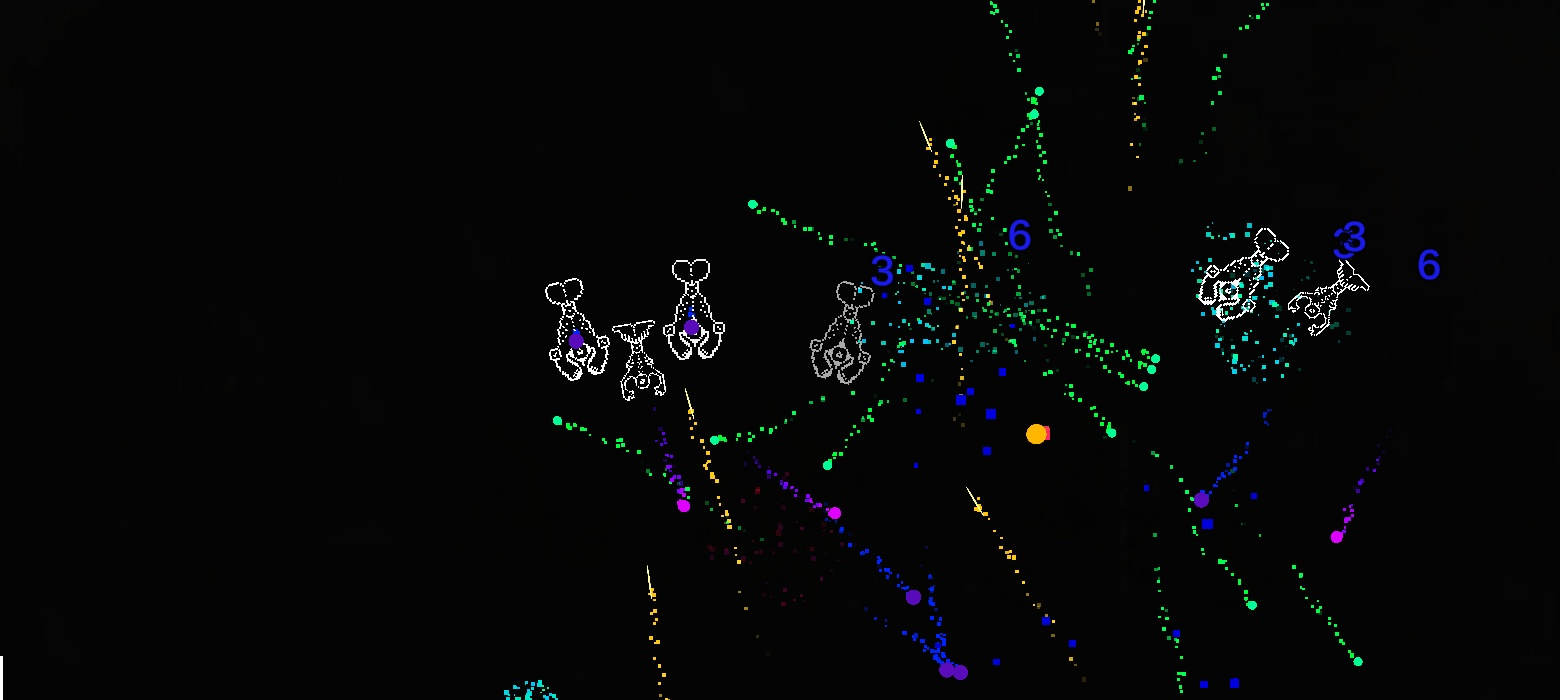enemy: (1198, 228, 1289, 322), (809, 281, 875, 385), (545, 278, 610, 381), (1288, 257, 1370, 336), (663, 258, 725, 361), (612, 320, 666, 401)
